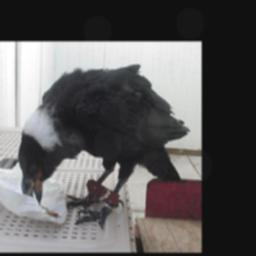Crow: (14, 63, 190, 229)
